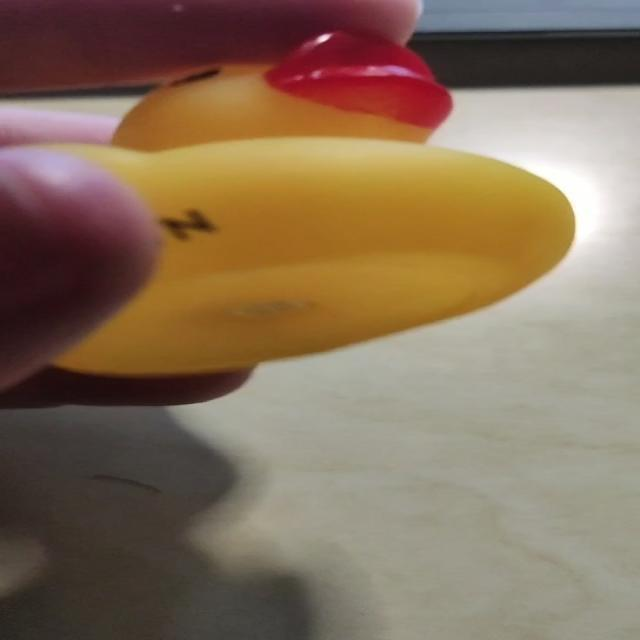rubber-duck: (44, 31, 572, 374)
